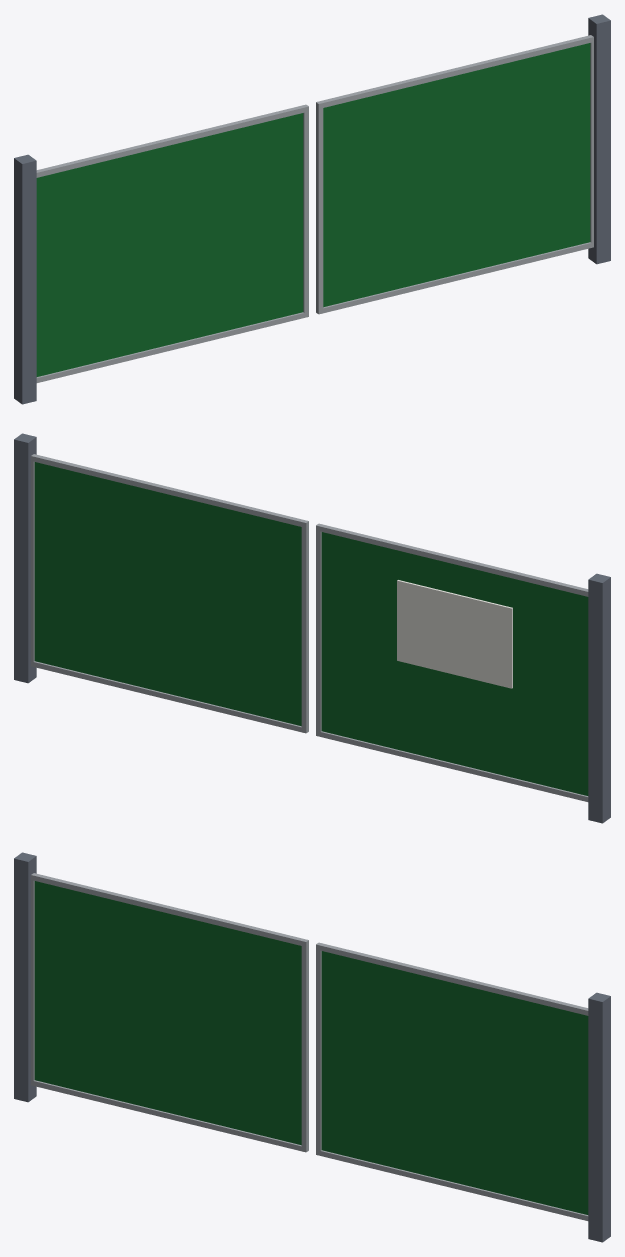
The model's file is plant.fence.site_gate.glb.
3 renders of one model, top to bottom at view 1: azimuth 30°, elevation 25°; view 2: azimuth 150°, elevation 25°; view 3: azimuth 330°, elevation 25°, orthographic.
Parts seen in each view (by area): view 1: main__plastic_green, main__steel_galvanised, main__steel_painted; view 2: main__plastic_green, main__steel_galvanised, main__steel_painted, main__paint_white; view 3: main__plastic_green, main__steel_galvanised, main__steel_painted.
Boxes of the visible parts, x1=… form: main__plastic_green: x1=36, y1=43, x2=590, y2=376; main__steel_galvanised: x1=36, y1=35, x2=593, y2=382; main__steel_painted: x1=14, y1=14, x2=610, y2=404; main__plastic_green: x1=34, y1=462, x2=588, y2=795; main__steel_galvanised: x1=31, y1=454, x2=588, y2=801; main__steel_painted: x1=14, y1=433, x2=610, y2=823; main__paint_white: x1=397, y1=580, x2=512, y2=688; main__plastic_green: x1=34, y1=881, x2=588, y2=1214; main__steel_galvanised: x1=31, y1=873, x2=588, y2=1220; main__steel_painted: x1=14, y1=852, x2=610, y2=1242.
Size of the model in its own units: 6.15 by 2.4 by 0.15.
